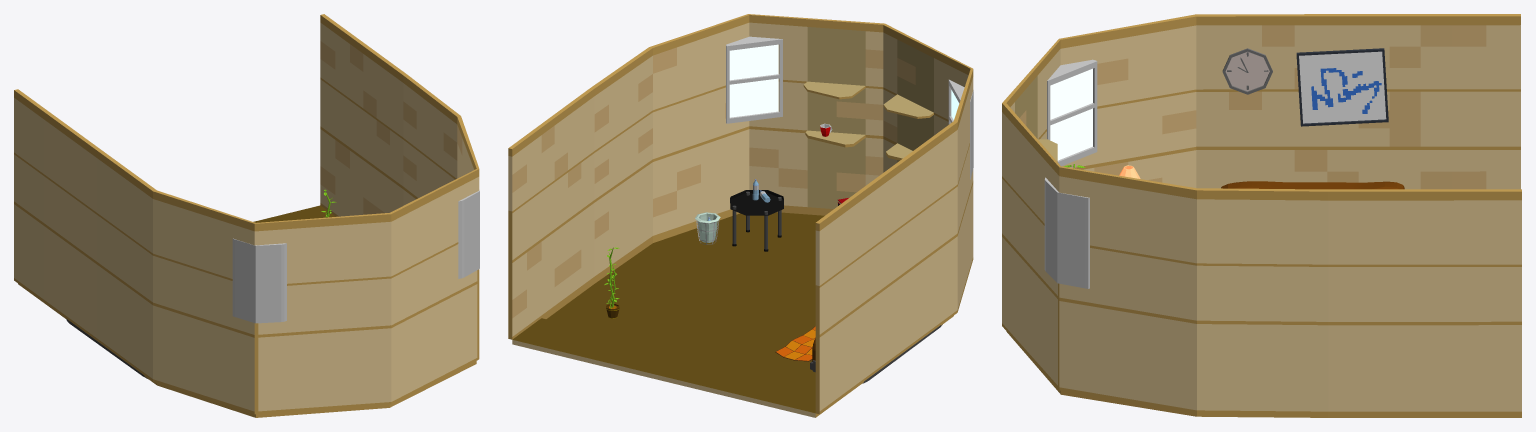
The picture shows the model from 3 angles, left to right: view 1: azimuth 30°, elevation 25°; view 2: azimuth 150°, elevation 25°; view 3: azimuth 270°, elevation 25°; orthographic projection. The views are drawn at different scales.
Visible parts, largest first — view 1: mur_30, Cube.002_79; view 2: mur_30, Cube.002_79, Circle_47, Plane.003_66, sac.001_70, Circle.001_87; view 3: mur_30, Cube.002_79, Cube_31, horloge_32, Cube.001_54.
Boxes of the visible parts, x1=… form: mur_30: x1=14, y1=14, x2=479, y2=417; Cube.002_79: x1=232, y1=190, x2=479, y2=323; mur_30: x1=508, y1=14, x2=973, y2=417; Cube.002_79: x1=726, y1=36, x2=973, y2=179; Circle_47: x1=730, y1=190, x2=783, y2=251; Plane.003_66: x1=775, y1=326, x2=815, y2=361; sac.001_70: x1=695, y1=212, x2=720, y2=242; Circle.001_87: x1=604, y1=247, x2=619, y2=318; mur_30: x1=1002, y1=14, x2=1521, y2=417; Cube.002_79: x1=1044, y1=59, x2=1097, y2=288; Cube_31: x1=1296, y1=48, x2=1388, y2=126; horloge_32: x1=1222, y1=48, x2=1272, y2=94; Cube.001_54: x1=1221, y1=181, x2=1404, y2=189.
Size of the model in its own units: 9.18 by 5.54 by 11.35.
